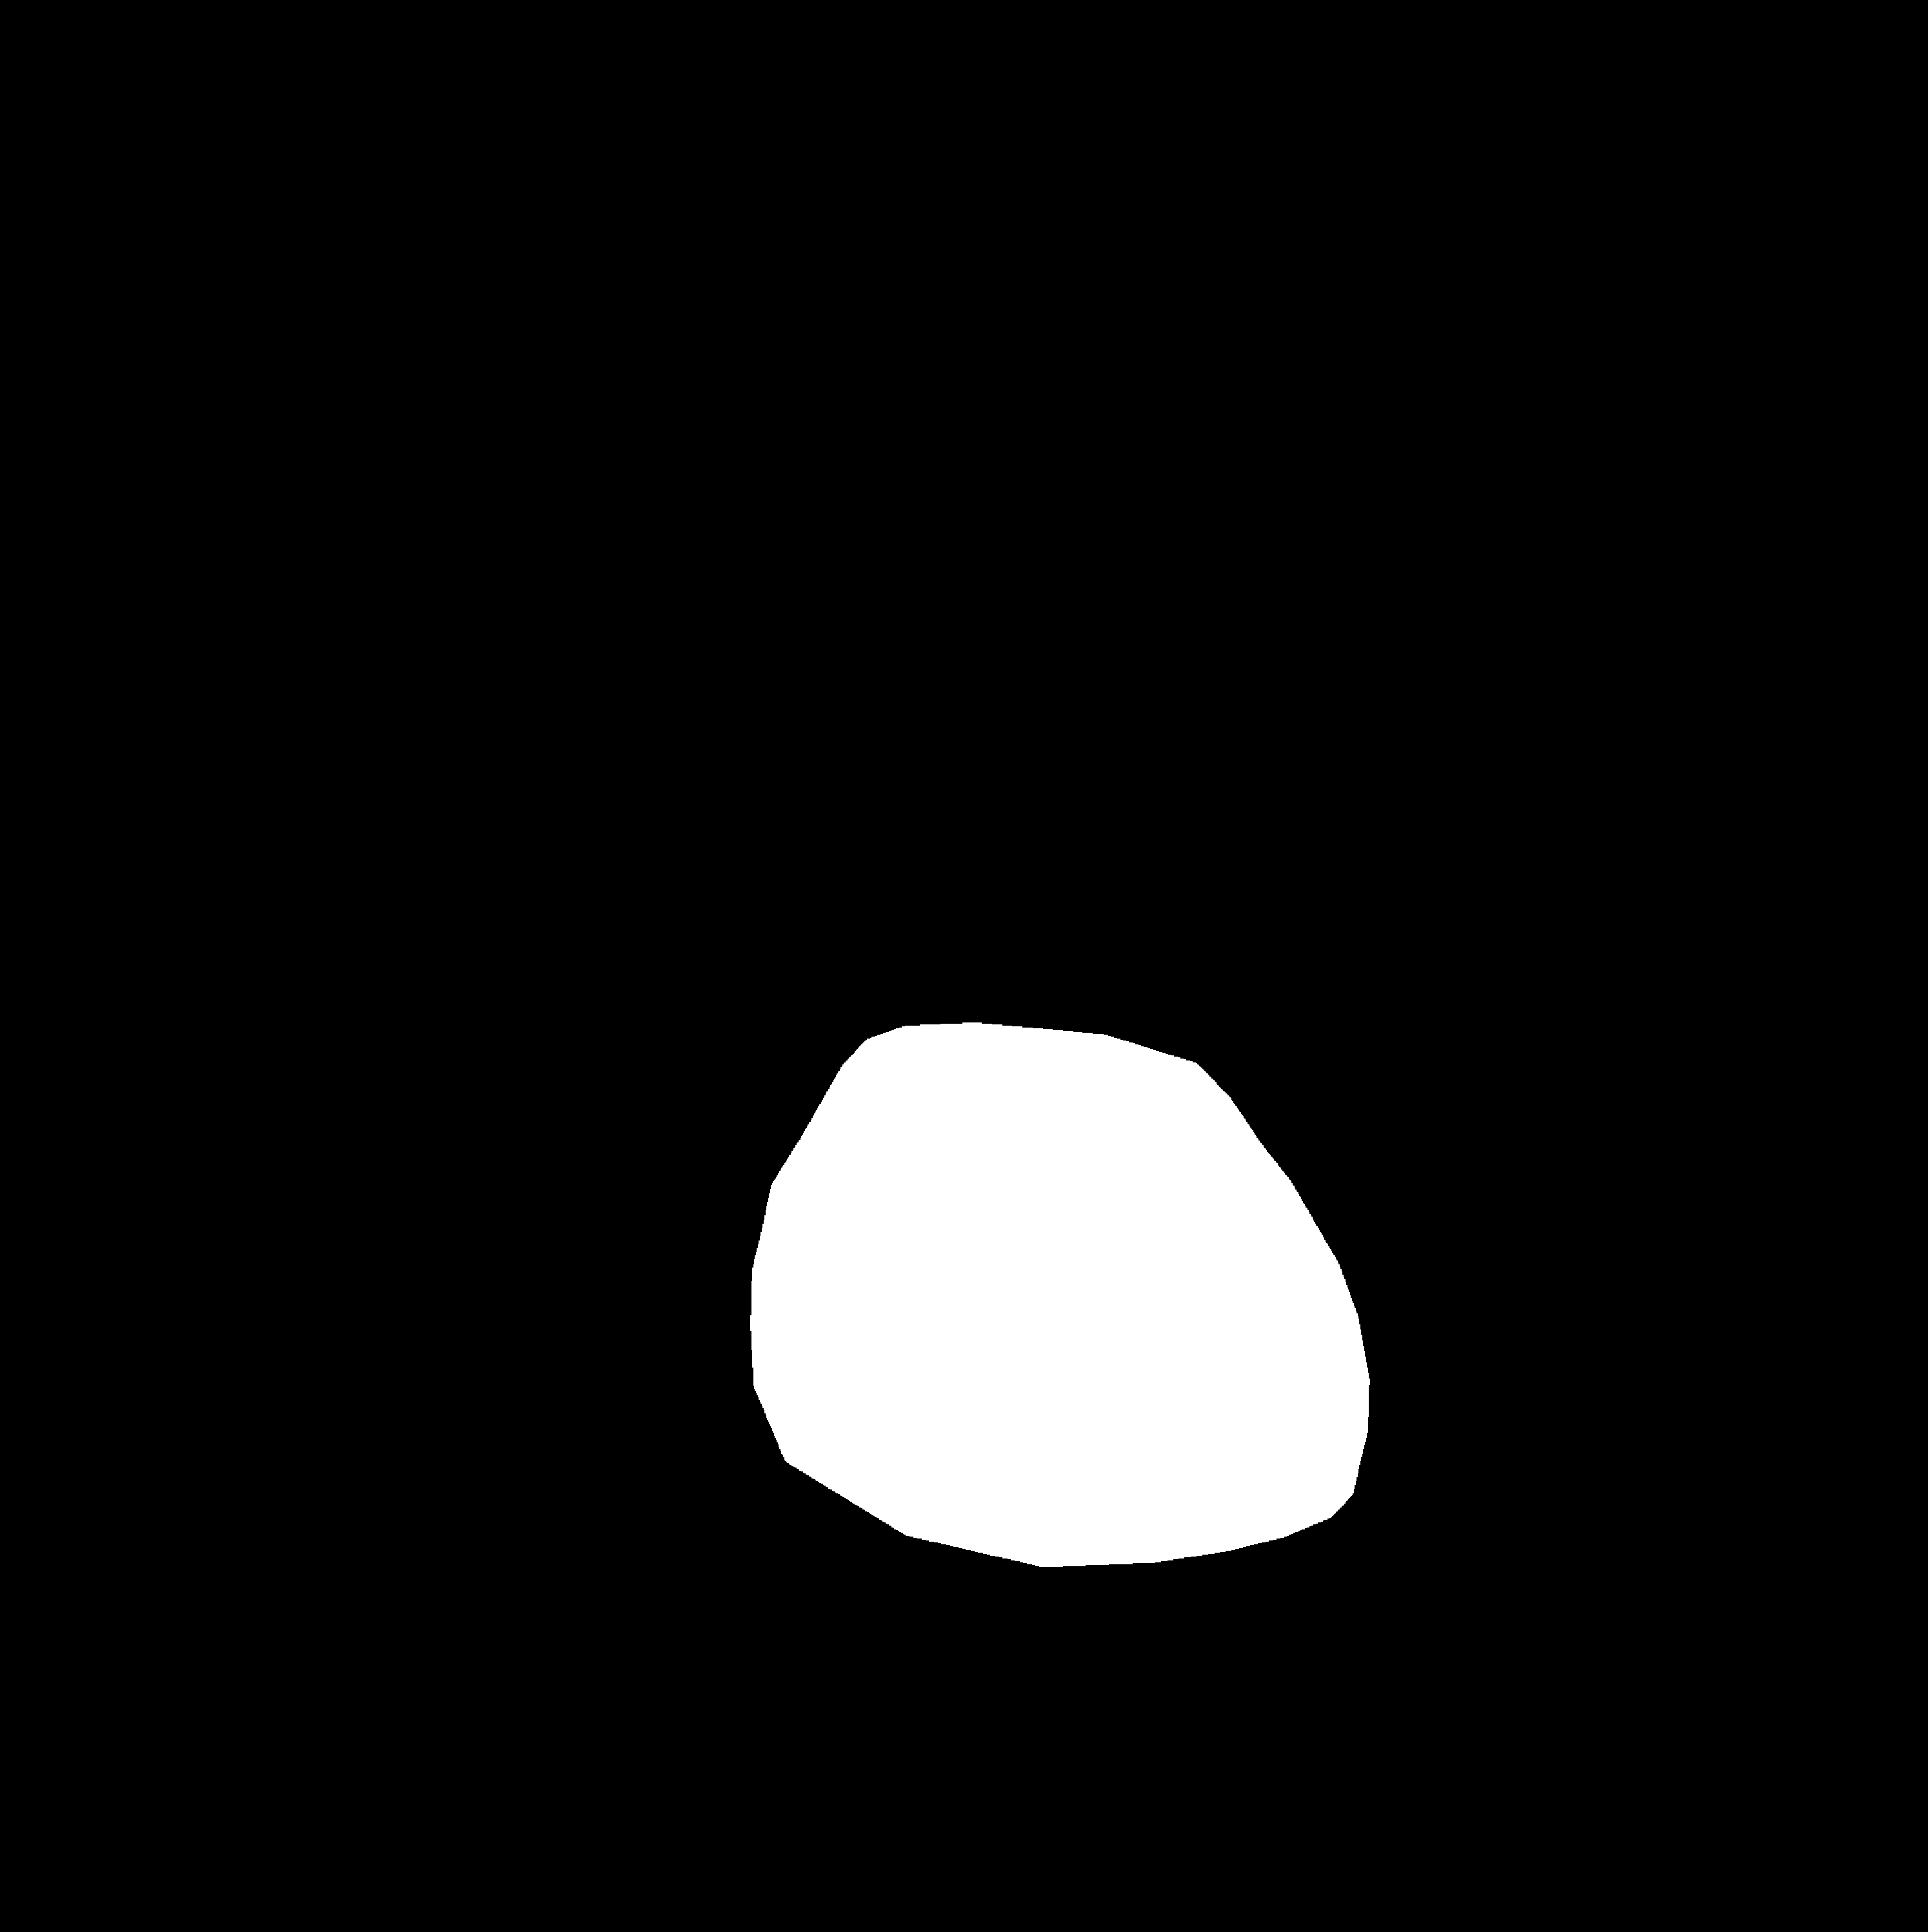heart: (750, 1114, 1368, 1607)
left_lung: (297, 302, 959, 1660)
right_lung: (1059, 330, 1593, 1695)
